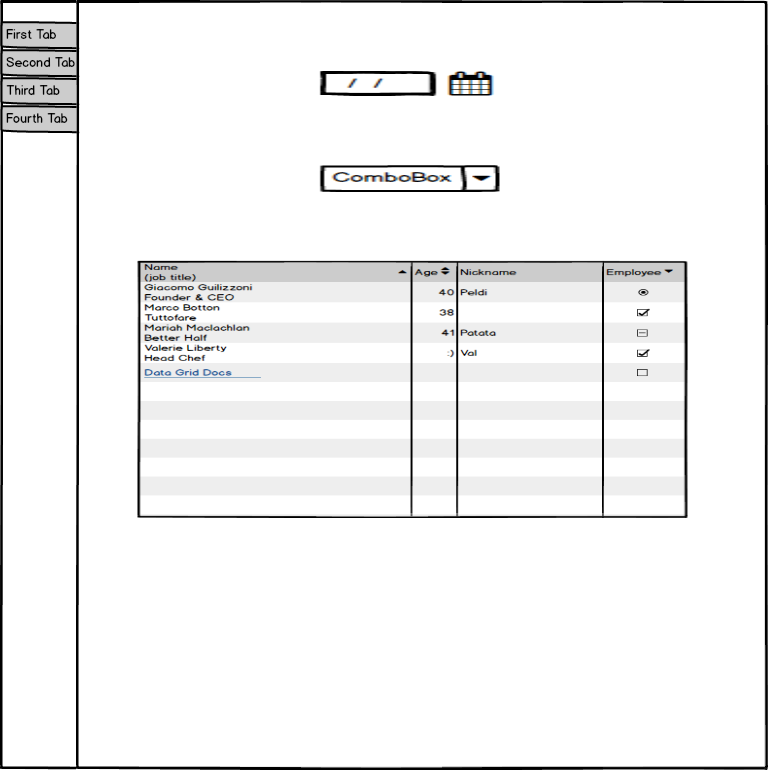date_picker: (315, 64, 500, 103)
select_box: (313, 159, 504, 196)
sidebar: (3, 15, 86, 141)
table: (131, 253, 693, 524)
